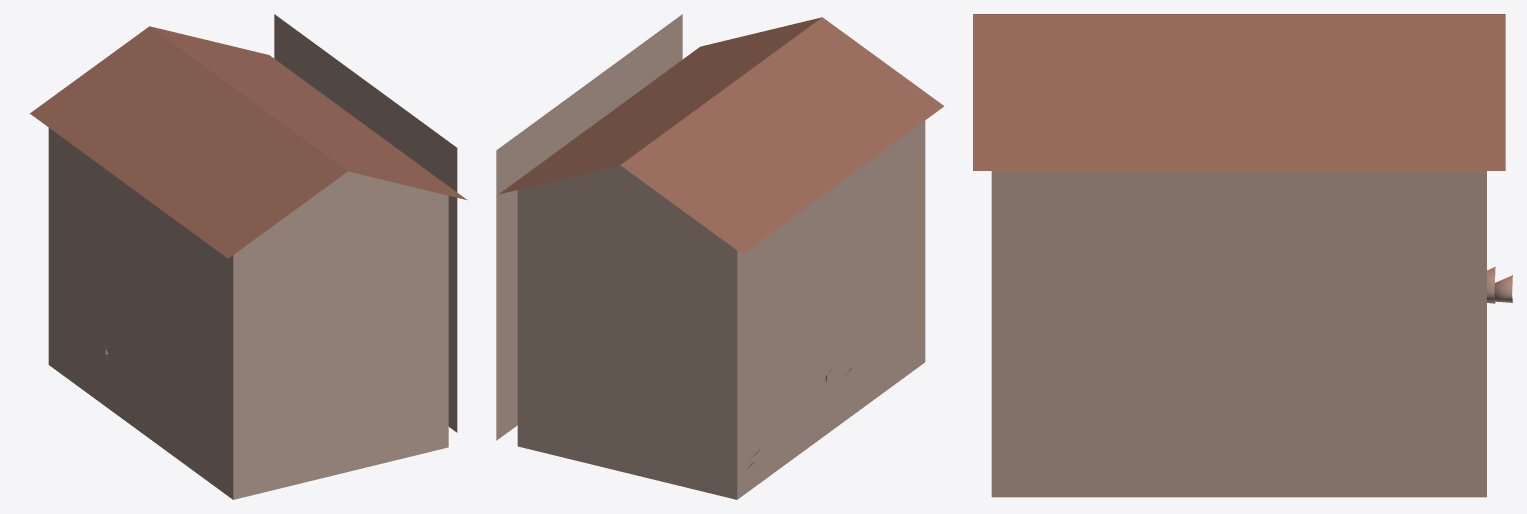
The model's file is home-rose.glb.
The picture shows the model from 3 angles, left to right: view 1: azimuth 30°, elevation 25°; view 2: azimuth 150°, elevation 25°; view 3: azimuth 270°, elevation 25°; orthographic projection. The views are drawn at different scales.
Visible parts, largest first — view 1: home-rose; view 2: home-rose; view 3: home-rose.
Boxes of the visible parts, x1=… form: home-rose: x1=30, y1=14, x2=467, y2=499; home-rose: x1=496, y1=14, x2=944, y2=499; home-rose: x1=973, y1=14, x2=1512, y2=497.
Bounding box in the file's own units: 7.42 × 8.52 × 10.1.
